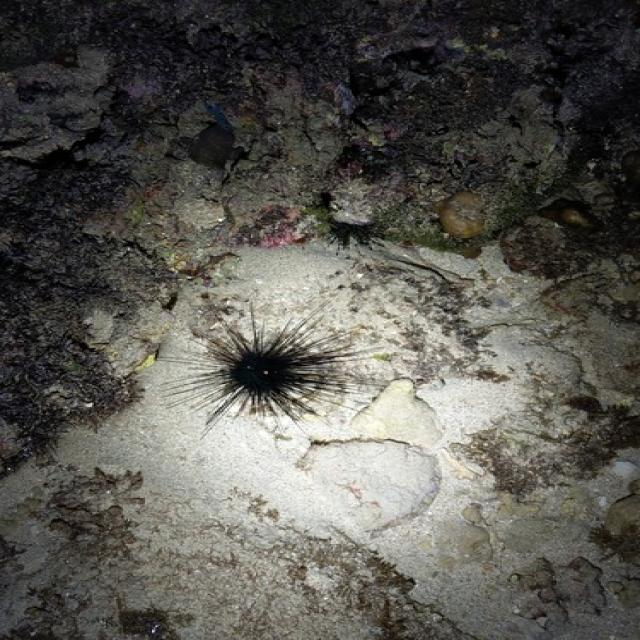Urchin: (150, 302, 398, 428)
